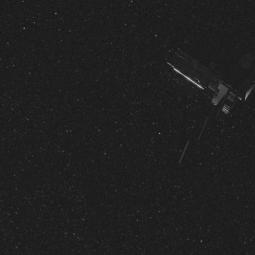soho: (166, 41, 255, 160)
